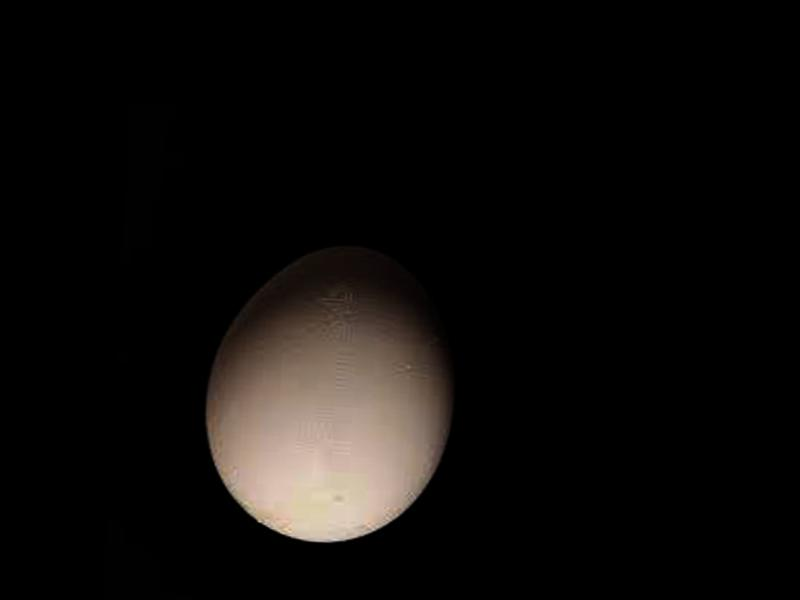Eggs: (199, 239, 460, 551)
